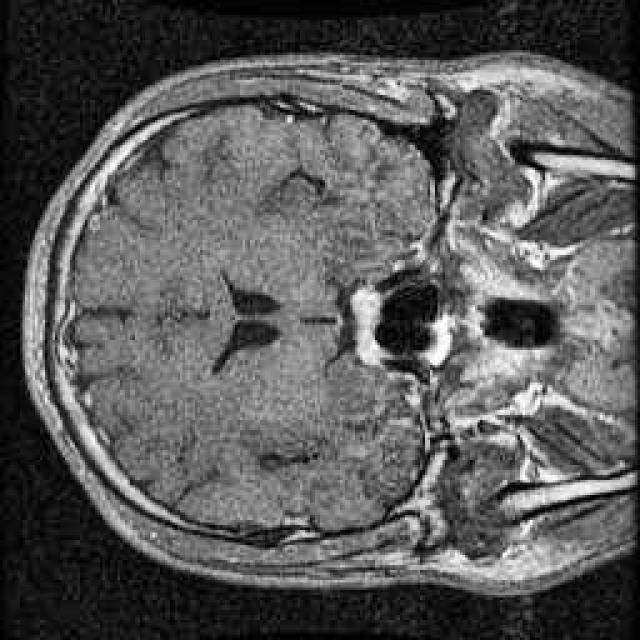Tumor: (338, 270, 400, 390)
